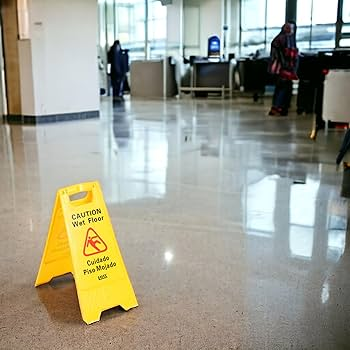wet caution sign: (31, 189, 151, 308)
